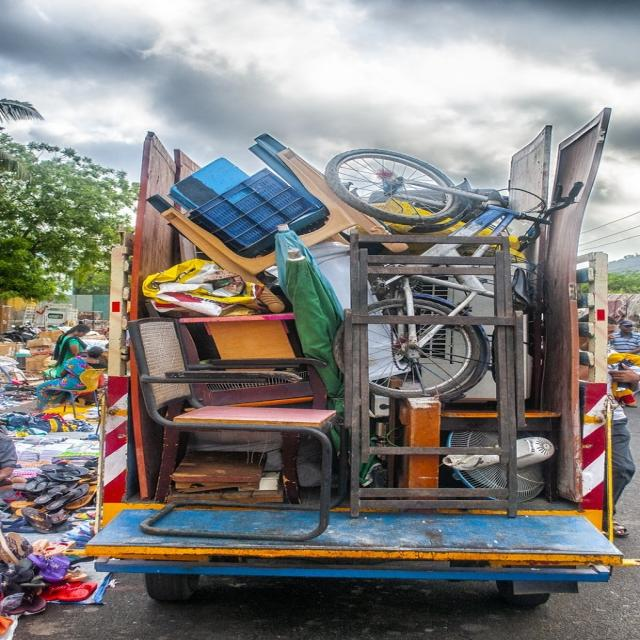Metal: (42, 496, 640, 617), (322, 138, 587, 251), (365, 271, 510, 361)
Plastics: (165, 147, 334, 238)
